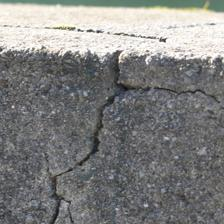Crack: (49, 86, 127, 190), (118, 56, 221, 106), (4, 22, 171, 44), (43, 188, 78, 224)
